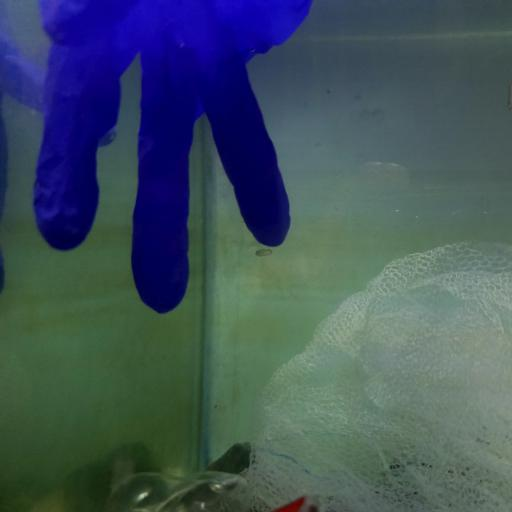glove: (35, 0, 292, 313)
net: (248, 241, 512, 512)
